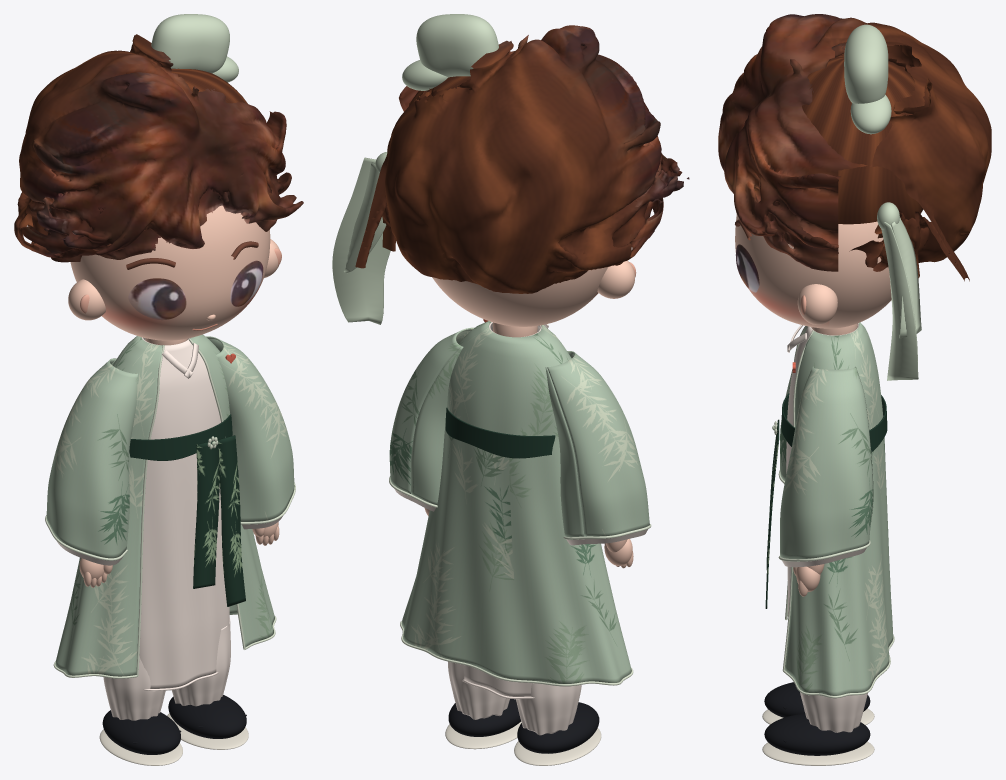
Rendered from ade.glb.
3 renders of one model, left to right at view 1: azimuth 30°, elevation 25°; view 2: azimuth 150°, elevation 25°; view 3: azimuth 270°, elevation 25°, orthographic. The views are drawn at different scales.
Parts seen in each view (by area): view 1: Reference layered hair, Ivory inner garment, Flowing open bamboo coat, Soft bell sleeve -1, Soft tapered face, Soft bell sleeve 1, Folded pale sage cap, Woven sash right, Woven sash left, Black cloth shoe -1, Black cloth shoe 1, Loose trouser hem -1 (+9 smaller); view 2: Reference layered hair, Flowing open bamboo coat, Soft bell sleeve -1, Soft bell sleeve 1, Soft tapered face, Long sage ribbon, Folded pale sage cap, Loose trouser hem -1, Slim waist band, Black cloth shoe -1, Loose trouser hem 1, Black cloth shoe 1 (+7 smaller); view 3: Reference layered hair, Flowing open bamboo coat, Soft bell sleeve 1, Continuous hair underlayer, Soft tapered face, Long sage ribbon, Folded pale sage cap, Black cloth shoe 1, Loose trouser hem 1, Short sage ribbon, Thin ivory sole 1, Soft ear 1 (+6 smaller).
Boxes of the visible parts, bbox=[...] form: Reference layered hair: bbox=[14, 34, 303, 262]; Ivory inner garment: bbox=[139, 337, 229, 688]; Flowing open bamboo coat: bbox=[55, 334, 274, 676]; Soft bell sleeve -1: bbox=[46, 358, 137, 558]; Soft tapered face: bbox=[70, 205, 270, 340]; Soft bell sleeve 1: bbox=[205, 336, 294, 521]; Folded pale sage cap: bbox=[151, 14, 229, 73]; Woven sash right: bbox=[217, 435, 245, 606]; Woven sash left: bbox=[193, 441, 219, 588]; Black cloth shoe -1: bbox=[102, 710, 180, 754]; Black cloth shoe 1: bbox=[168, 695, 246, 738]; Loose trouser hem -1: bbox=[103, 656, 165, 720]; Reference layered hair: bbox=[355, 25, 689, 293]; Flowing open bamboo coat: bbox=[401, 321, 631, 683]; Soft bell sleeve -1: bbox=[545, 351, 649, 537]; Soft bell sleeve 1: bbox=[389, 327, 474, 504]; Soft tapered face: bbox=[432, 267, 608, 326]; Long sage ribbon: bbox=[332, 157, 390, 324]; Folded pale sage cap: bbox=[416, 14, 498, 77]; Loose trouser hem -1: bbox=[516, 683, 581, 735]; Slim waist band: bbox=[445, 407, 555, 458]; Black cloth shoe -1: bbox=[517, 702, 599, 753]; Loose trouser hem 1: bbox=[448, 661, 509, 719]; Black cloth shoe 1: bbox=[448, 699, 520, 736]; Reference layered hair: bbox=[718, 14, 991, 281]; Flowing open bamboo coat: bbox=[784, 322, 893, 695]; Soft bell sleeve 1: bbox=[780, 366, 873, 559]; Continuous hair underlayer: bbox=[802, 53, 923, 238]; Soft tapered face: bbox=[735, 214, 891, 328]; Long sage ribbon: bbox=[881, 222, 918, 380]; Folded pale sage cap: bbox=[844, 24, 888, 103]; Black cloth shoe 1: bbox=[764, 713, 870, 755]; Loose trouser hem 1: bbox=[800, 692, 867, 732]; Short sage ribbon: bbox=[891, 217, 921, 338]; Thin ivory sole 1: bbox=[762, 741, 874, 765]; Soft ear 1: bbox=[797, 284, 837, 324].
Bounding box in the file's own units: 0.9494 × 2.3 × 0.7891.
18 materials, 6 textured.
